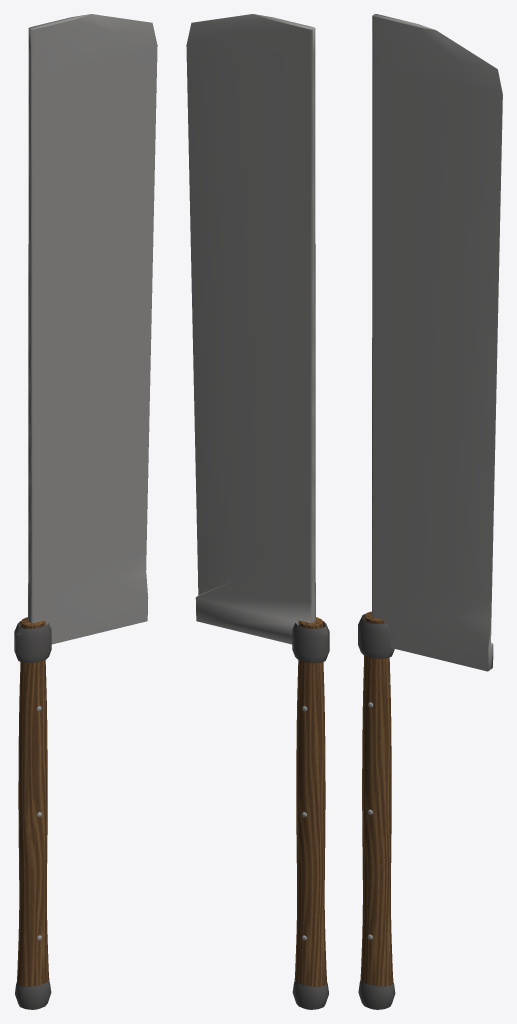
The model's file is gear_frontier_cleaver.glb.
3 views of the same model, side by side, from view 1: azimuth 30°, elevation 25°; view 2: azimuth 150°, elevation 25°; view 3: azimuth 330°, elevation 25° (orthographic).
Visible parts, largest first — view 1: gear_frontier_cleaver; view 2: gear_frontier_cleaver; view 3: gear_frontier_cleaver.
Part boxes in pixels (left/top/right/bottom): gear_frontier_cleaver: left=14, top=14, right=157, bottom=1009; gear_frontier_cleaver: left=186, top=14, right=329, bottom=1009; gear_frontier_cleaver: left=358, top=14, right=502, bottom=1009.
Bounding box in the file's own units: 0.2523 × 1.67 × 0.049.
Materials: 4 (1 with a texture image).
